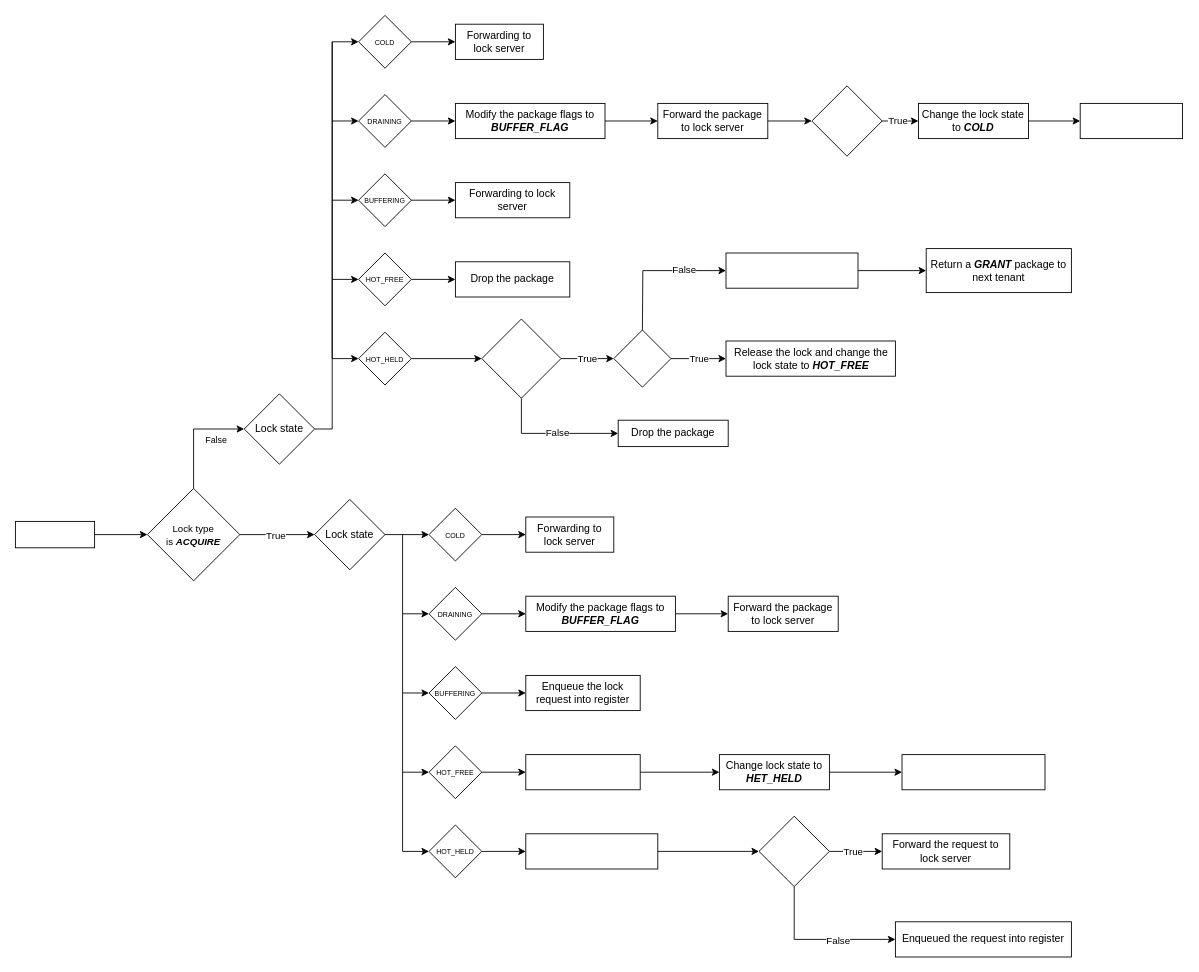
This 1199x972 diagram has some shape labels left out. Here are the shapes that lost their labels. From the top down, the centre of each, then its label:
At point (846, 120): "Queue is empty?".
At point (1130, 121): "Notify lock server".
At point (791, 270): "Change the lock holder to the next tenant".
At point (521, 358): "Lock holder == tenant_id".
At point (642, 358): "Queue is empty".
At point (55, 534): "Lock".
At point (582, 772): "Write register for lock acquired".
At point (973, 772): "Return a GRANT package".
At point (591, 851): "Read the corresponding lock register".
At point (793, 851): "Register full".
